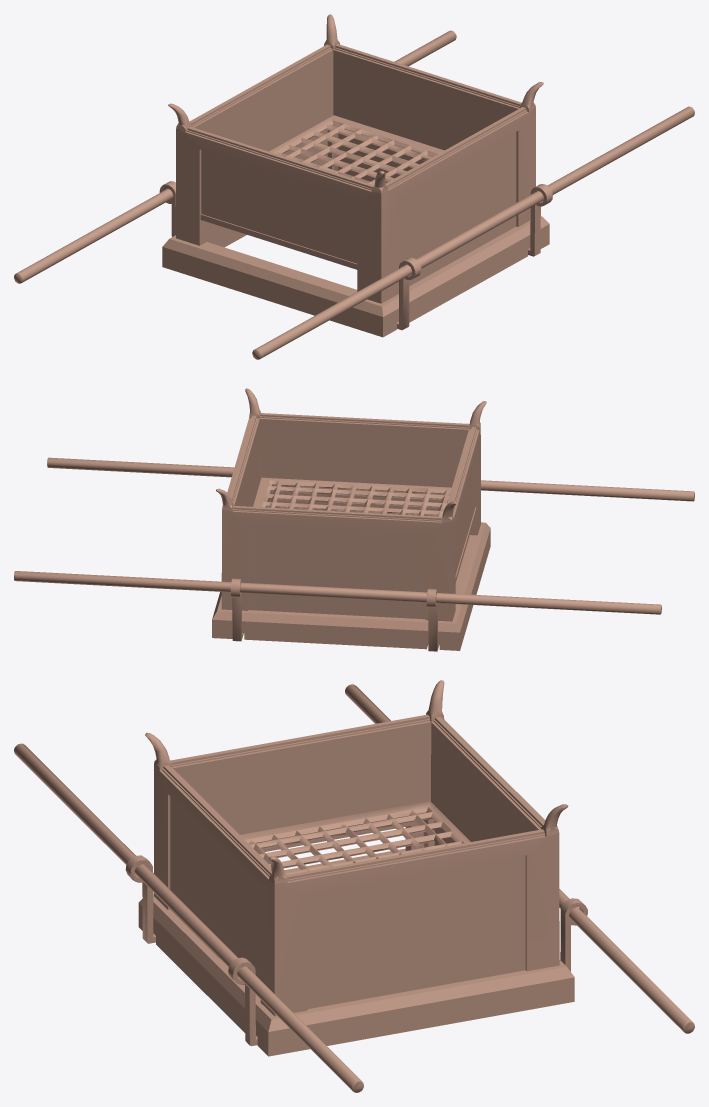
3 renders of one model, top to bottom at view 1: azimuth 30°, elevation 25°; view 2: azimuth 150°, elevation 25°; view 3: azimuth 270°, elevation 25°, orthographic. The views are drawn at different scales.
Parts seen in each view (by area): view 1: Cylinder_003, Plane_002, Cilindro_008, Cilindro_003; view 2: Cylinder_003, Cilindro_003, Plane_002, Cilindro_008; view 3: Cylinder_003, Plane_002, Cilindro_008, Cilindro_003.
Part boxes in pixels (x1,y1,x2,y2): Cylinder_003: [162, 14, 549, 337]; Plane_002: [159, 115, 552, 330]; Cilindro_008: [252, 106, 694, 359]; Cilindro_003: [14, 30, 456, 283]; Cylinder_003: [212, 388, 490, 650]; Cilindro_003: [14, 571, 661, 614]; Plane_002: [230, 477, 451, 651]; Cilindro_008: [47, 457, 694, 501]; Cylinder_003: [138, 680, 574, 1056]; Plane_002: [125, 801, 587, 1046]; Cilindro_008: [14, 743, 363, 1092]; Cilindro_003: [345, 684, 694, 1033].
Bounding box in the file's own units: 6.86 × 1.57 × 4.95.
